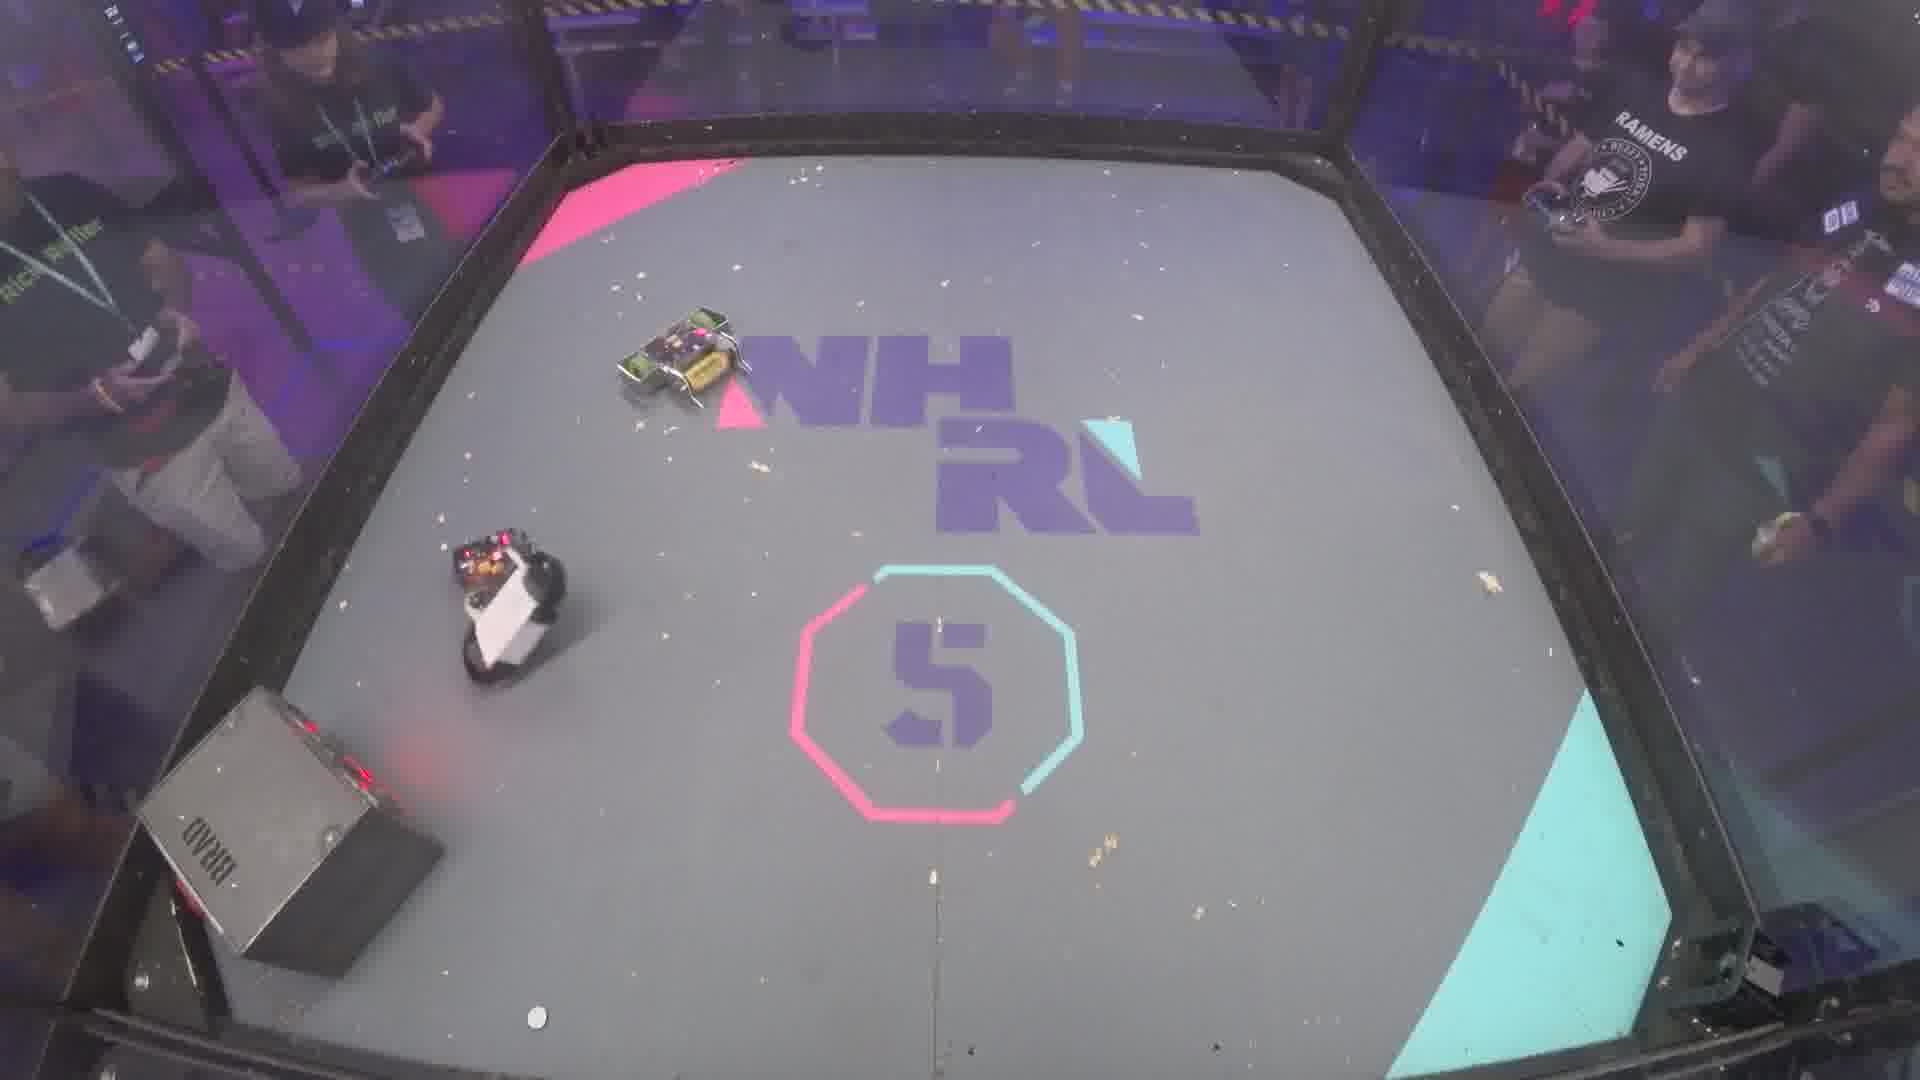combatbot: (462, 553, 570, 690), (615, 305, 745, 414)
housebot: (138, 682, 450, 982)
minibot: (443, 533, 529, 574)
